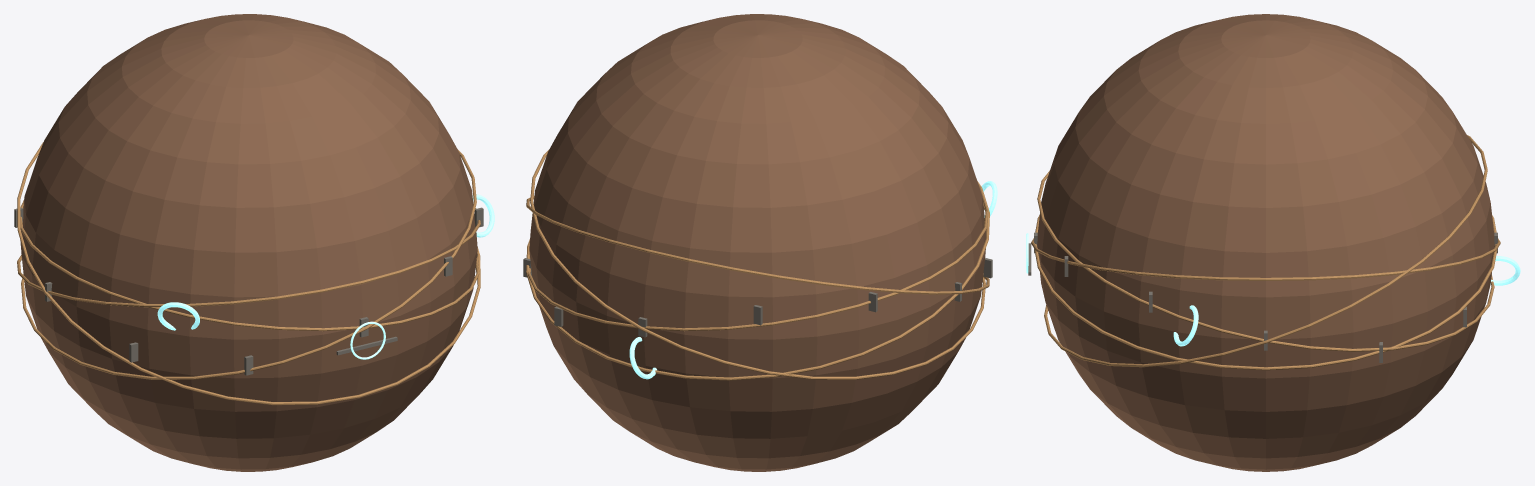
The model's file is caligo_director.gltf.
3 views of the same model, side by side, from view 1: azimuth 30°, elevation 25°; view 2: azimuth 150°, elevation 25°; view 3: azimuth 270°, elevation 25° (orthographic).
Visible parts, largest first — view 1: caligo_planet_lod0, caligo_dune_band_03, caligo_dune_band_02, caligo_dune_band_00, caligo_dune_band_01; view 2: caligo_planet_lod0, caligo_dune_band_02, caligo_dune_band_01, caligo_dune_band_03, caligo_dune_band_00; view 3: caligo_planet_lod0, caligo_dune_band_03, caligo_dune_band_00, caligo_dune_band_01, caligo_dune_band_02.
Boxes of the visible parts, x1,y1,x2,y2 form: caligo_planet_lod0: (20, 14, 477, 471); caligo_dune_band_03: (17, 142, 480, 405); caligo_dune_band_02: (21, 150, 476, 379); caligo_dune_band_00: (20, 200, 479, 331); caligo_dune_band_01: (17, 208, 480, 307); caligo_planet_lod0: (529, 14, 985, 471); caligo_dune_band_02: (530, 150, 985, 379); caligo_dune_band_01: (526, 181, 989, 380); caligo_dune_band_03: (526, 196, 989, 294); caligo_dune_band_00: (527, 202, 988, 331); caligo_planet_lod0: (1037, 14, 1494, 471); caligo_dune_band_03: (1044, 135, 1487, 367); caligo_dune_band_00: (1033, 215, 1498, 370); caligo_dune_band_01: (1037, 170, 1494, 351); caligo_dune_band_02: (1031, 238, 1500, 280).
Bounding box in the file's own units: 10.37 × 10 × 10.78.
